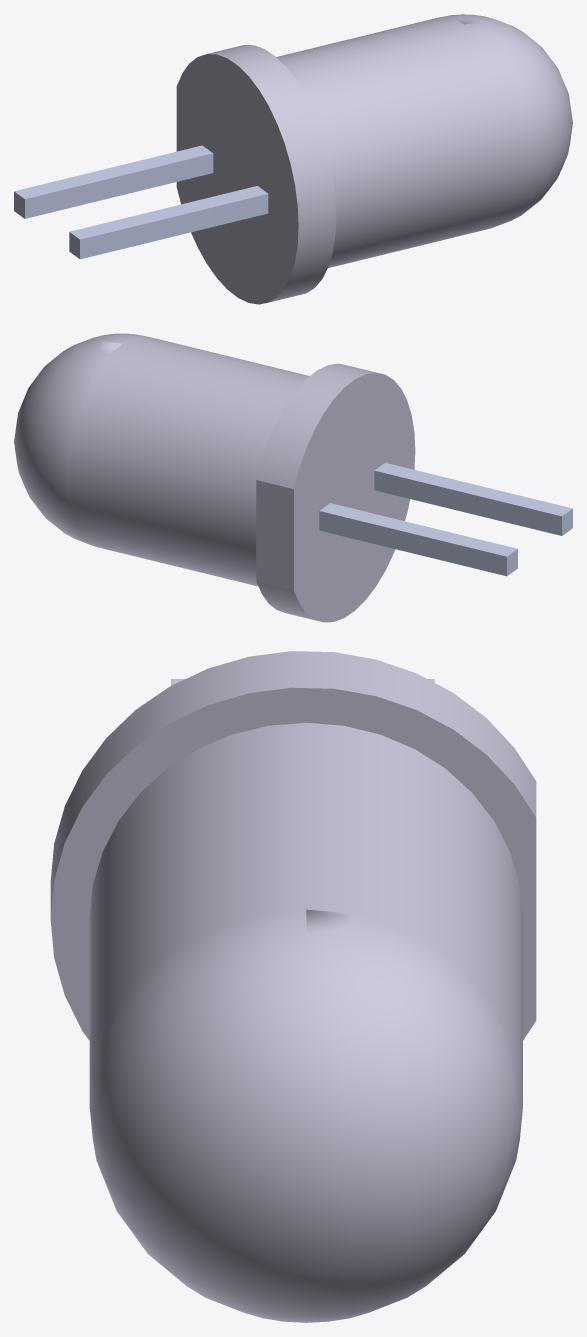
File: camera_led.dae
The picture shows the model from 3 angles, top to bottom: view 1: azimuth 30°, elevation 25°; view 2: azimuth 150°, elevation 25°; view 3: azimuth 270°, elevation 25°; orthographic projection. The views are drawn at different scales.
Parts seen in each view (by area): view 1: camera_led; view 2: camera_led; view 3: camera_led.
Boxes of the visible parts, box(x1,y1,x2,y2) form: camera_led: box(14, 14, 572, 304); camera_led: box(14, 333, 572, 622); camera_led: box(50, 651, 536, 1322).
Size of the model in its own units: 0.0136 by 0.0056 by 0.00589.
